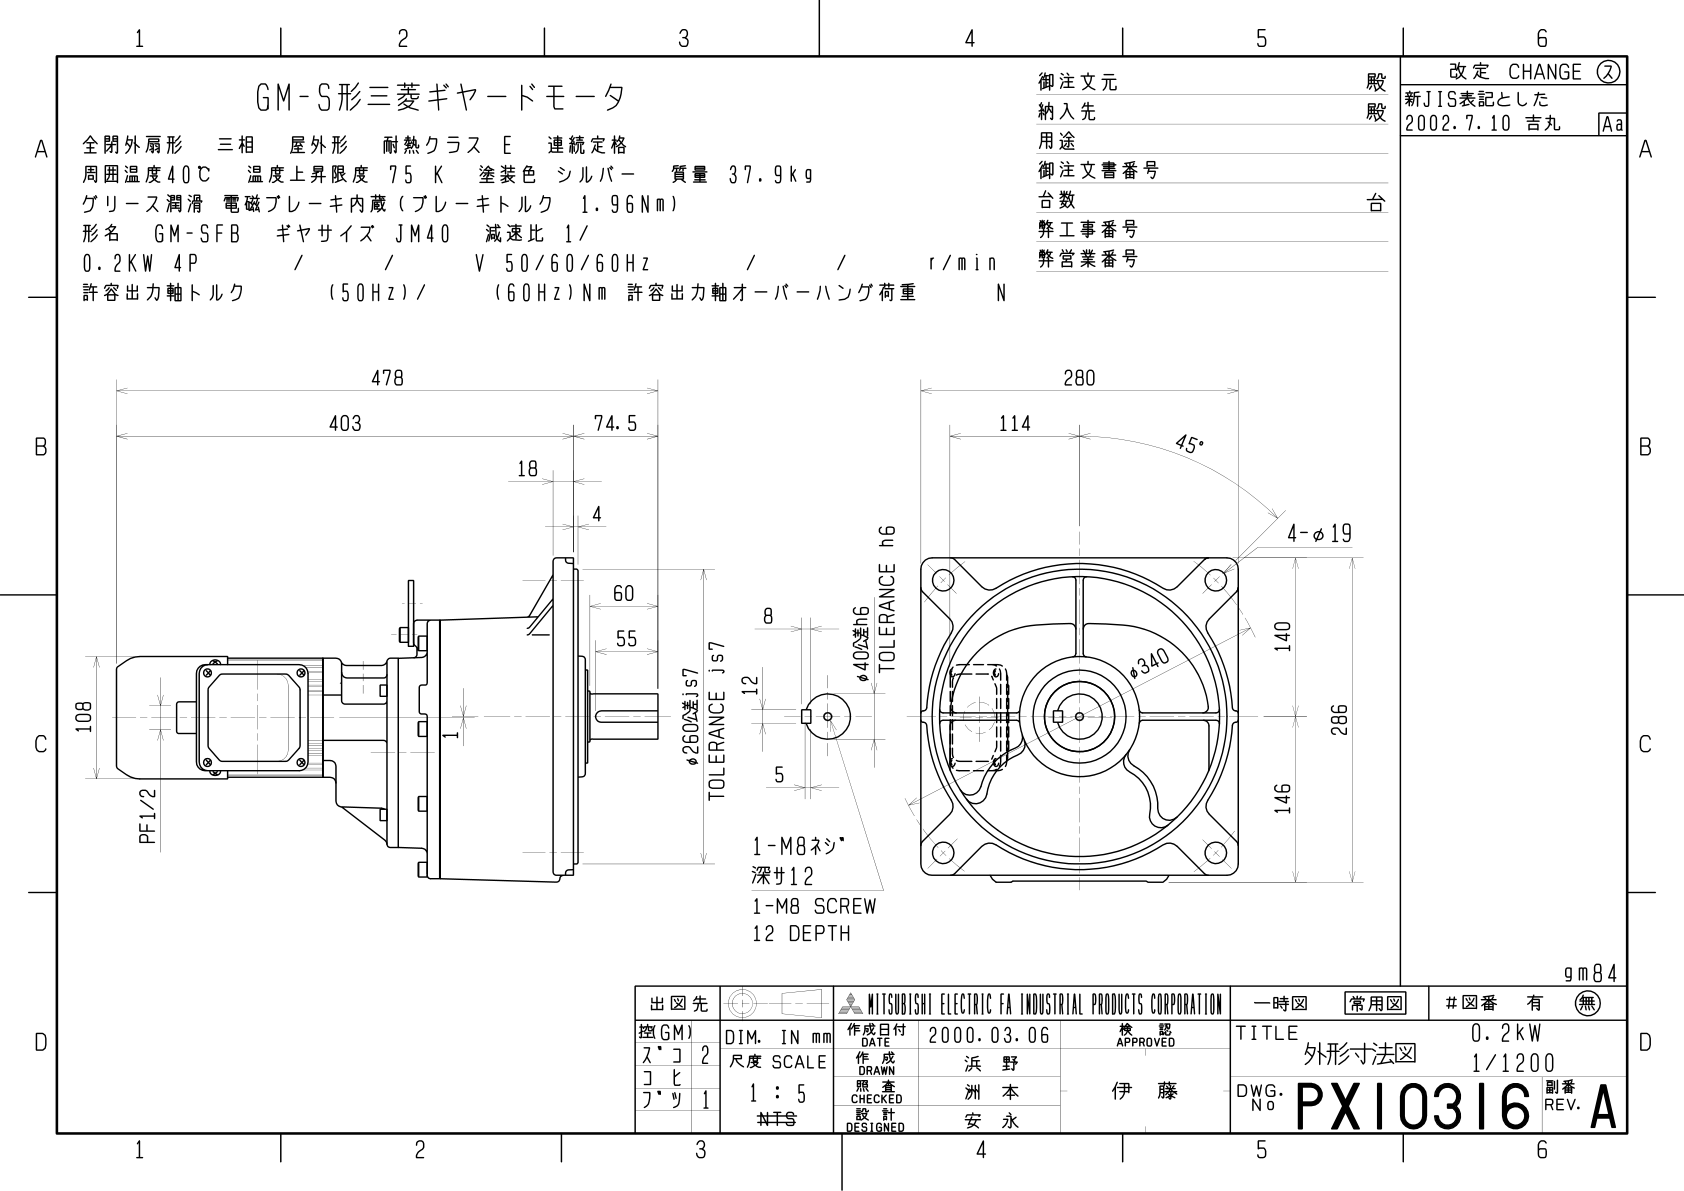GM_S_屋外＿三相_フランジ: (64, 345, 1397, 955)
